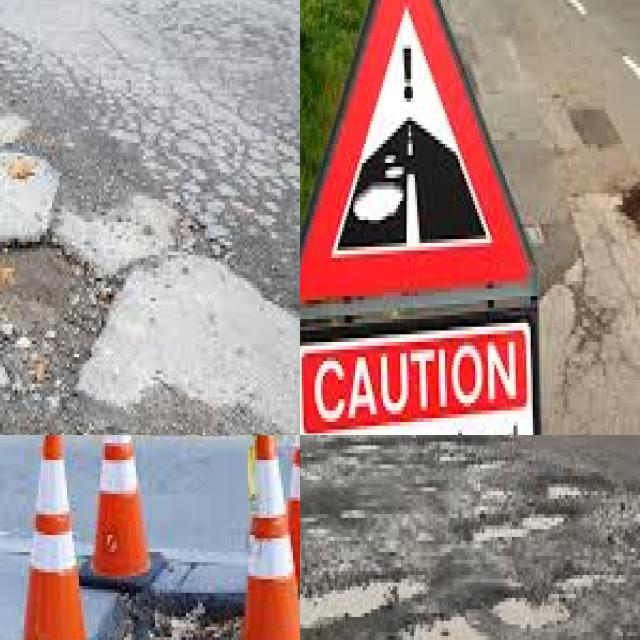Pothole: (0, 248, 106, 390), (88, 589, 243, 640), (300, 571, 405, 628), (486, 480, 580, 533), (514, 575, 580, 617), (401, 617, 488, 640), (337, 438, 378, 457), (300, 453, 329, 476), (339, 506, 369, 522), (444, 621, 467, 640)
